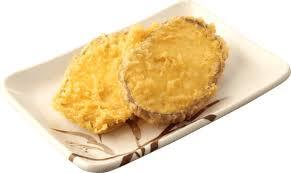satumaimo: (130, 19, 227, 120), (60, 31, 157, 128)
